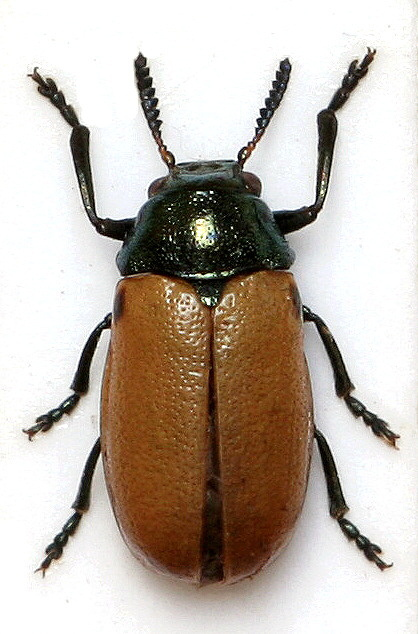Labidostomis_longimana: (23, 51, 403, 595)
